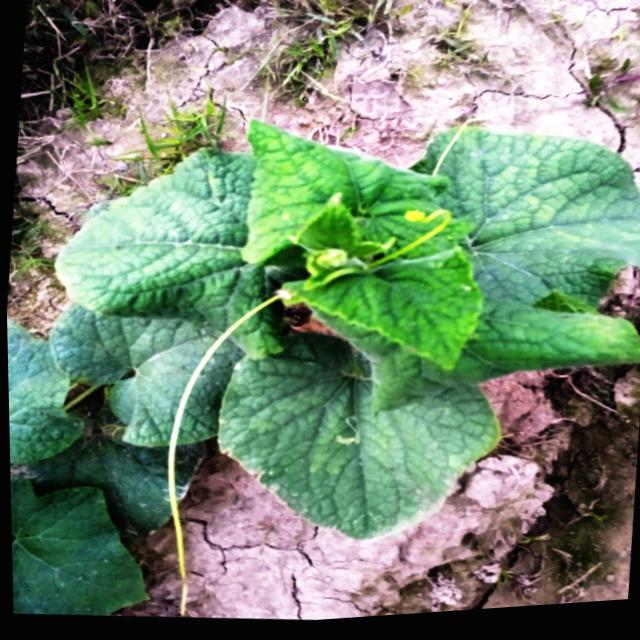Fresh-Leaf: (225, 103, 496, 393), (11, 478, 151, 615)
